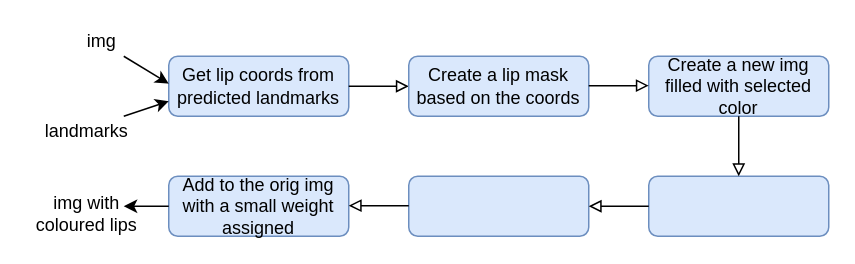
Image size: 855x264. Some labels were removed from this diagram. The shapes that lost their labels are listed below. From the top down, each one's centre as x and y in pixels, then its label:
At point 498,205: "Apply gaussian blur".
At point 738,205: "«bitwise and» new img with a lip mask".
